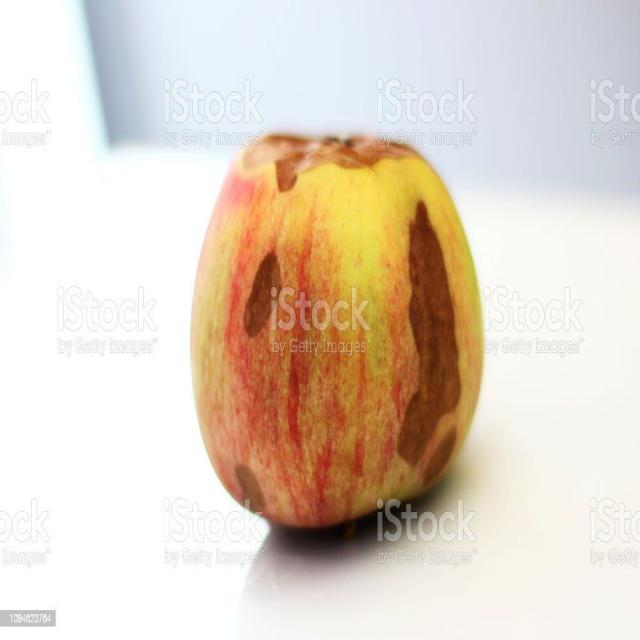Rotten Apple: (190, 135, 485, 534)
